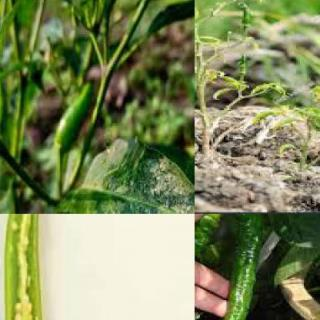green_chilli: (203, 214, 268, 319), (3, 214, 45, 319), (50, 82, 98, 151), (97, 0, 128, 26), (240, 4, 255, 28), (240, 54, 248, 74)
